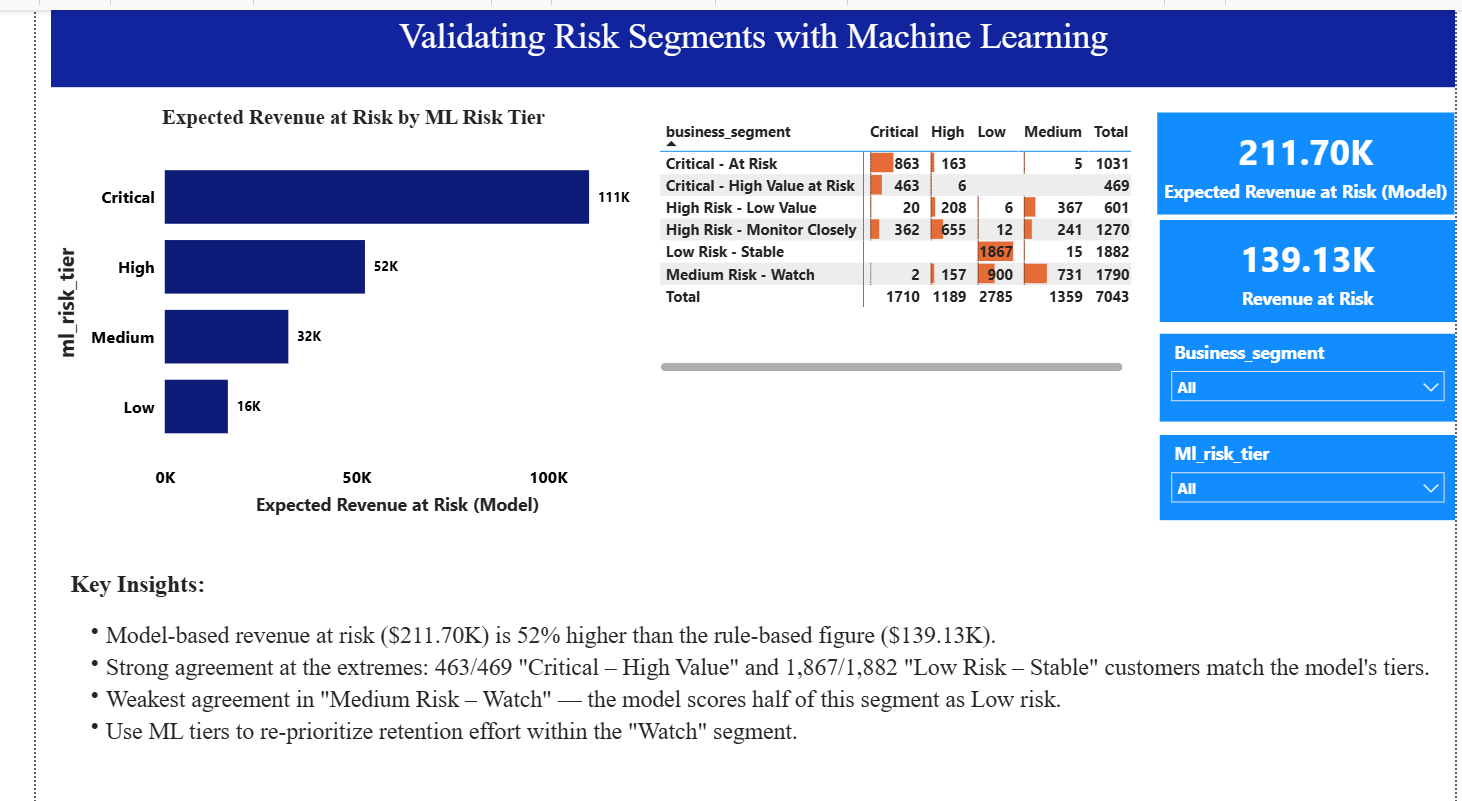

This screenshot's page, from the dashboard's own definition file:
{"tool":"powerbi","page":{"name":"ML Model Insights","canvas":[1280,720],"ordinal":2},"visuals":[{"type":"card","fields":{"Values":["telco_churn_customers.Revenue at Risk"]},"box":[1012.8,189,266.9,92.3],"z":0},{"type":"card","fields":{"Values":["telco_churn_with_ml.Expected Revenue at Risk (Model)"]},"box":[1011.4,92.3,268.4,92.3],"z":1},{"type":"clusteredBarChart","title":"Expected Revenue at Risk by ML Risk Tier","fields":{"Y":["telco_churn_with_ml.Expected Revenue at Risk (Model)"],"Category":["telco_churn_with_ml.ml_risk_tier"]},"box":[13,85.1,545.4,375.1],"z":2},{"type":"pivotTable","fields":{"Columns":["telco_churn_with_ml.ml_risk_tier"],"Rows":["telco_churn_with_ml.business_segment"],"Values":["CountNonNull(telco_churn_with_ml.customerID)"]},"box":[558.3,93.8,434.3,238.1],"z":3},{"type":"slicer","fields":{"Values":["telco_churn_with_ml.ml_risk_tier"]},"box":[1012.8,383.8,266.9,76.5],"z":4},{"type":"slicer","fields":{"Values":["telco_churn_with_ml.business_segment"]},"box":[1012.8,291.4,266.9,79.4],"z":5},{"type":"textbox","box":[13,0,1266.7,69.3],"z":6},{"type":"textbox","box":[26,500.6,1253.8,204.9],"z":7}]}

Visuals, with their boxes in screenshot pixels (x1, y1, x2, y2), scaled from the page's 1280x720 canvas onto the 1462x801 screenshot:
card - telco_churn_customers.Revenue at Risk: x1=1157 y1=210 x2=1461 y2=313
card - telco_churn_with_ml.Expected Revenue at Risk (Model): x1=1155 y1=103 x2=1461 y2=205
"Expected Revenue at Risk by ML Risk Tier" clusteredBarChart: x1=15 y1=95 x2=638 y2=512
pivotTable - telco_churn_with_ml.ml_risk_tier x telco_churn_with_ml.business_segment: x1=638 y1=104 x2=1134 y2=369
slicer - telco_churn_with_ml.ml_risk_tier: x1=1157 y1=427 x2=1461 y2=512
slicer - telco_churn_with_ml.business_segment: x1=1157 y1=324 x2=1461 y2=413
textbox: x1=15 y1=0 x2=1461 y2=77
textbox: x1=30 y1=557 x2=1461 y2=785
